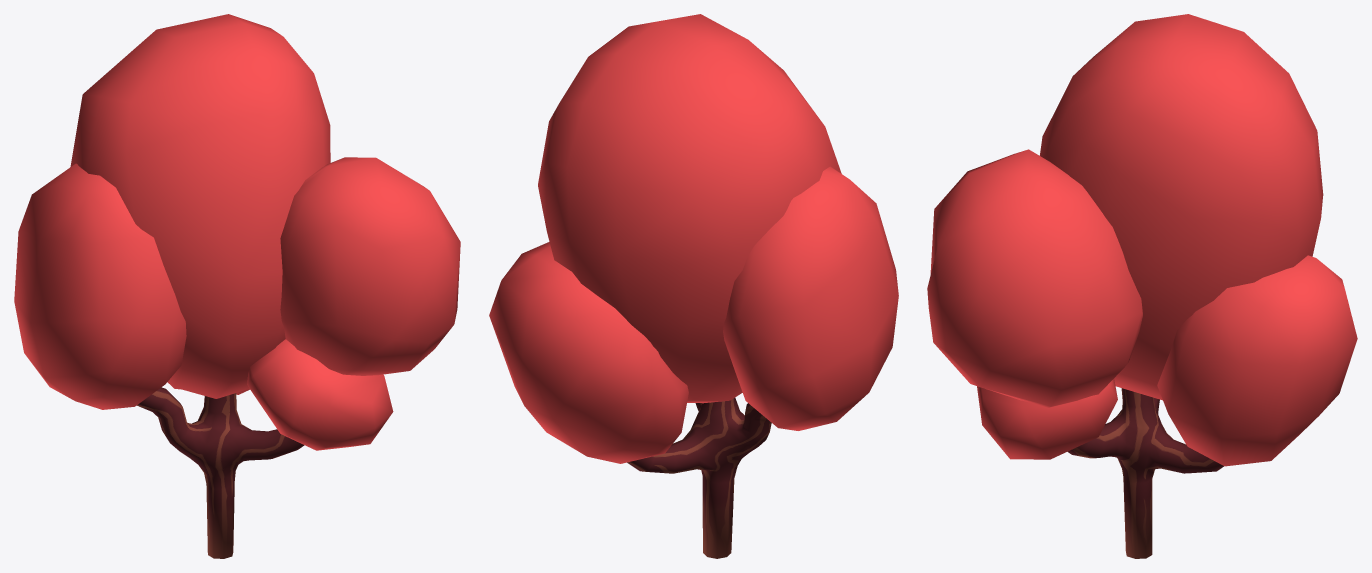
File: treelowertricount.fbx
The picture shows the model from 3 angles, left to right: view 1: azimuth 30°, elevation 25°; view 2: azimuth 150°, elevation 25°; view 3: azimuth 270°, elevation 25°; orthographic projection. The views are drawn at different scales.
Parts seen in each view (by area): view 1: leaves, treecopy.001; view 2: leaves, treecopy.001; view 3: leaves, treecopy.001.
Part boxes in pixels (bbox=[...]): leaves: bbox=[14, 14, 460, 450]; treecopy.001: bbox=[137, 387, 304, 558]; leaves: bbox=[489, 14, 898, 463]; treecopy.001: bbox=[627, 397, 771, 558]; leaves: bbox=[927, 14, 1357, 466]; treecopy.001: bbox=[1067, 388, 1223, 558].
Bounding box in the file's own units: 400 × 564 × 413.
